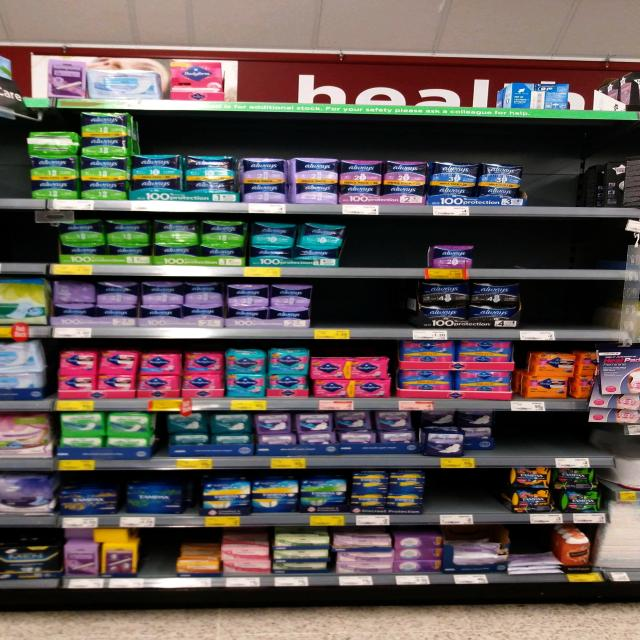empty_space: (488, 223, 606, 269), (350, 224, 406, 268), (322, 292, 402, 322), (529, 156, 575, 200), (516, 419, 580, 449), (532, 295, 602, 322), (441, 478, 491, 507), (0, 141, 24, 195), (6, 224, 42, 259)
